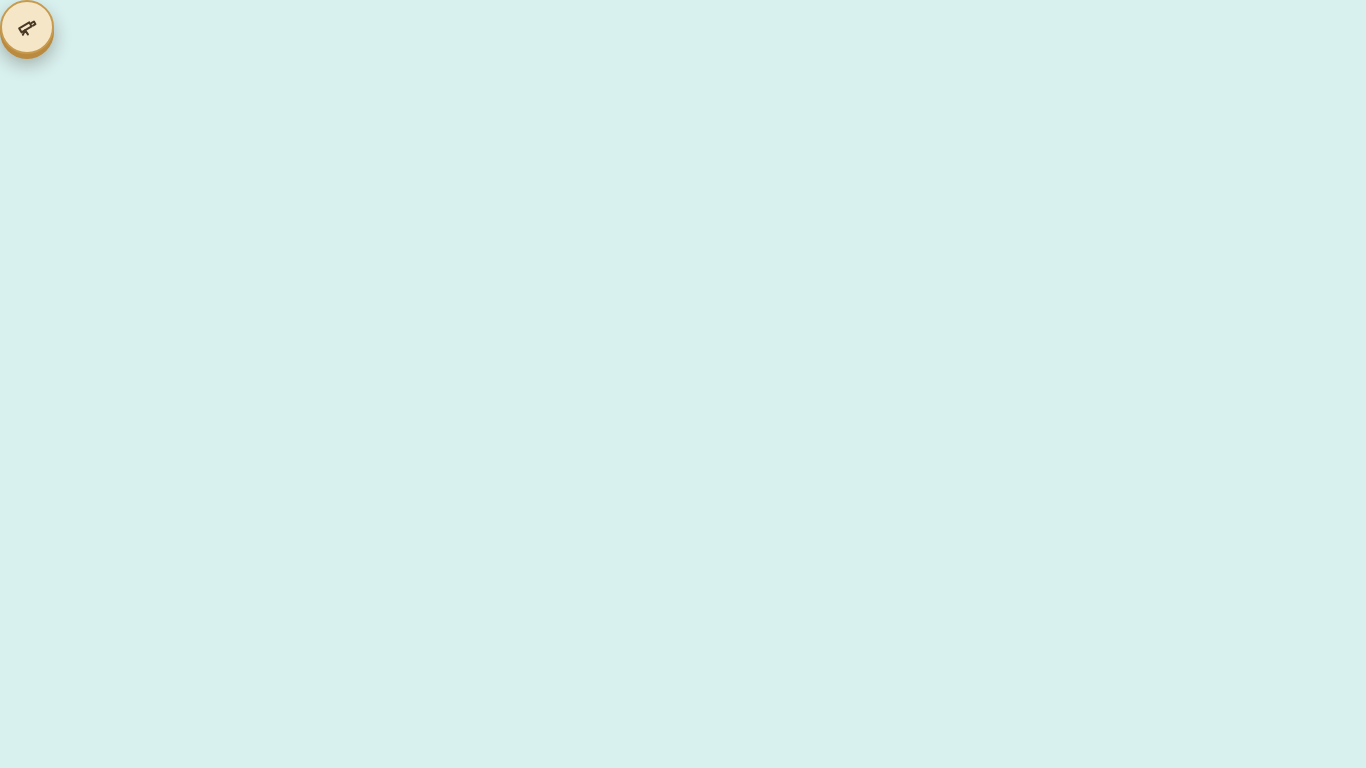
Scenario: ScoutControl › a missing npm is only reported as not found, with no install command
Click the button named "Scout for threats" at (27, 27), box [0,0,54,54]
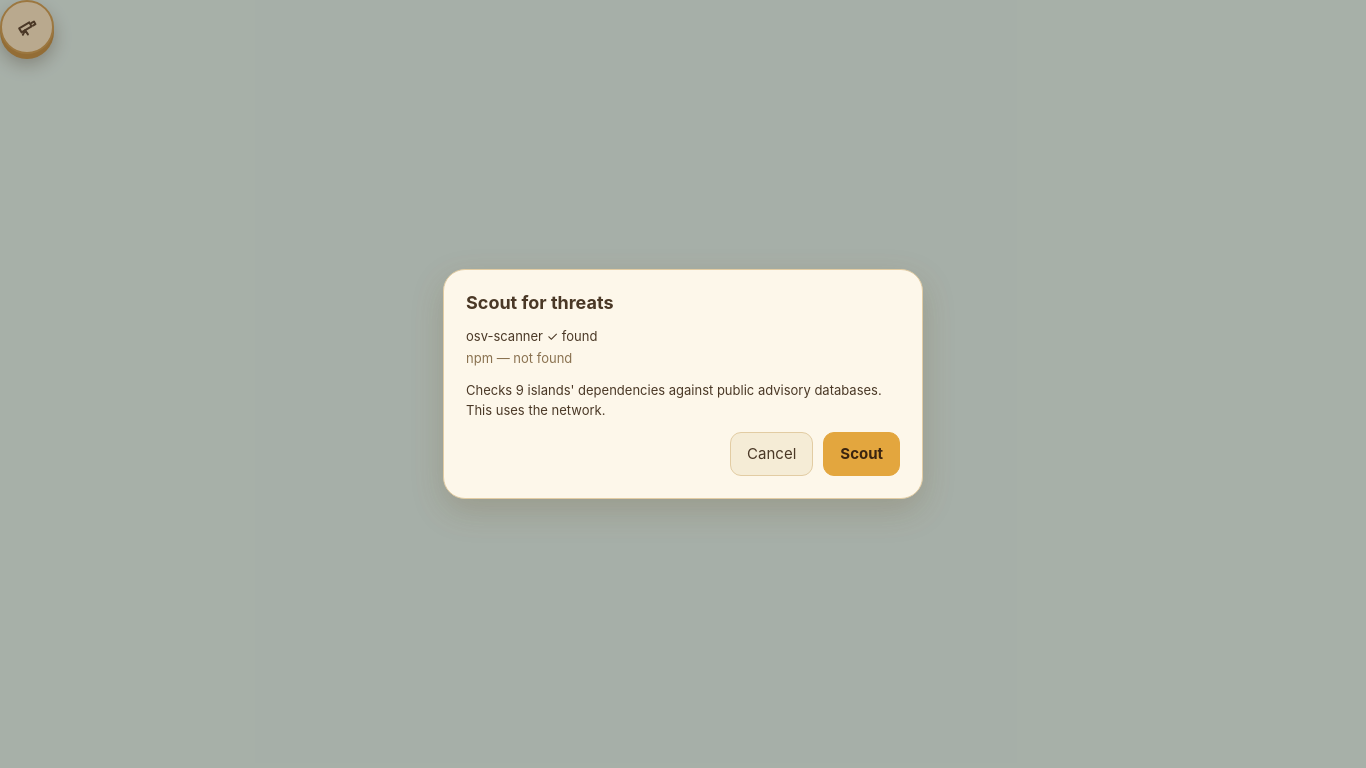
Check: the dialog "Scout for threats" shows "npm — not found", box [466,350,572,366]
